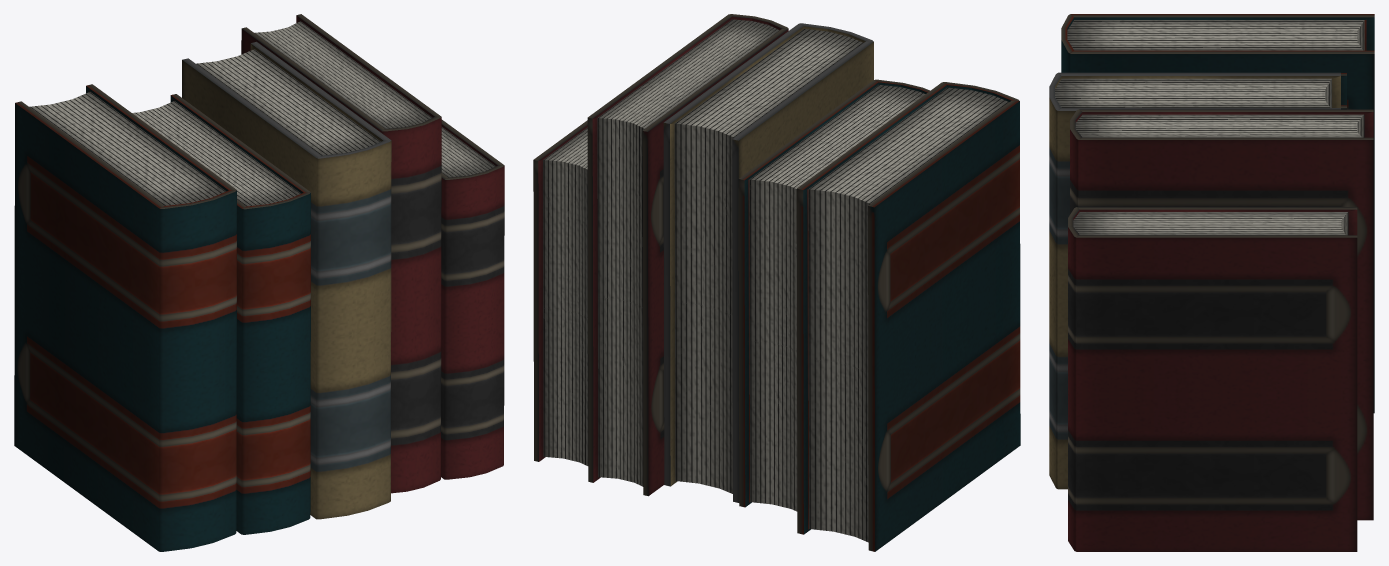
File: CI_072_books_reversed.glb
3 renders of one model, left to right at view 1: azimuth 30°, elevation 25°; view 2: azimuth 150°, elevation 25°; view 3: azimuth 270°, elevation 25°, orthographic. The views are drawn at different scales.
Visible parts, largest first — view 1: book_5, book_1, book_4, book_3, book_2; view 2: book_5, book_1, book_3, book_4, book_2; view 3: book_2, book_3, book_5, book_1.
Boxes of the visible parts, <box> form: book_5: <box>14,84,236,551</box>; book_1: <box>182,41,391,519</box>; book_4: <box>132,94,310,534</box>; book_3: <box>241,14,441,493</box>; book_2: <box>441,119,504,479</box>; book_5: <box>796,82,1020,551</box>; book_1: <box>663,23,873,502</box>; book_3: <box>587,14,788,496</box>; book_4: <box>738,79,929,511</box>; book_2: <box>533,120,588,465</box>; book_2: <box>1068,207,1357,551</box>; book_3: <box>1070,109,1373,520</box>; book_5: <box>1061,14,1374,413</box>; book_1: <box>1049,72,1340,489</box>.
Size of the model in its own units: 0.752 by 0.7477 by 0.5789.
Materials: 1 (1 with a texture image).
